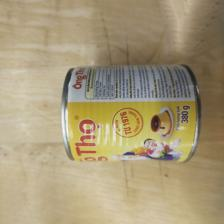Ong_tho: (61, 63, 202, 164)
